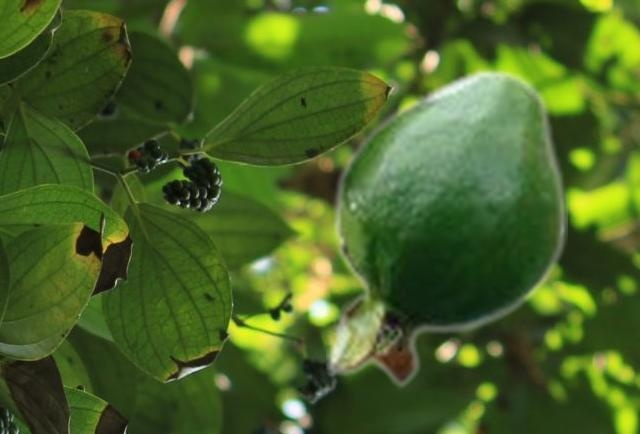guava: (326, 66, 566, 389)
